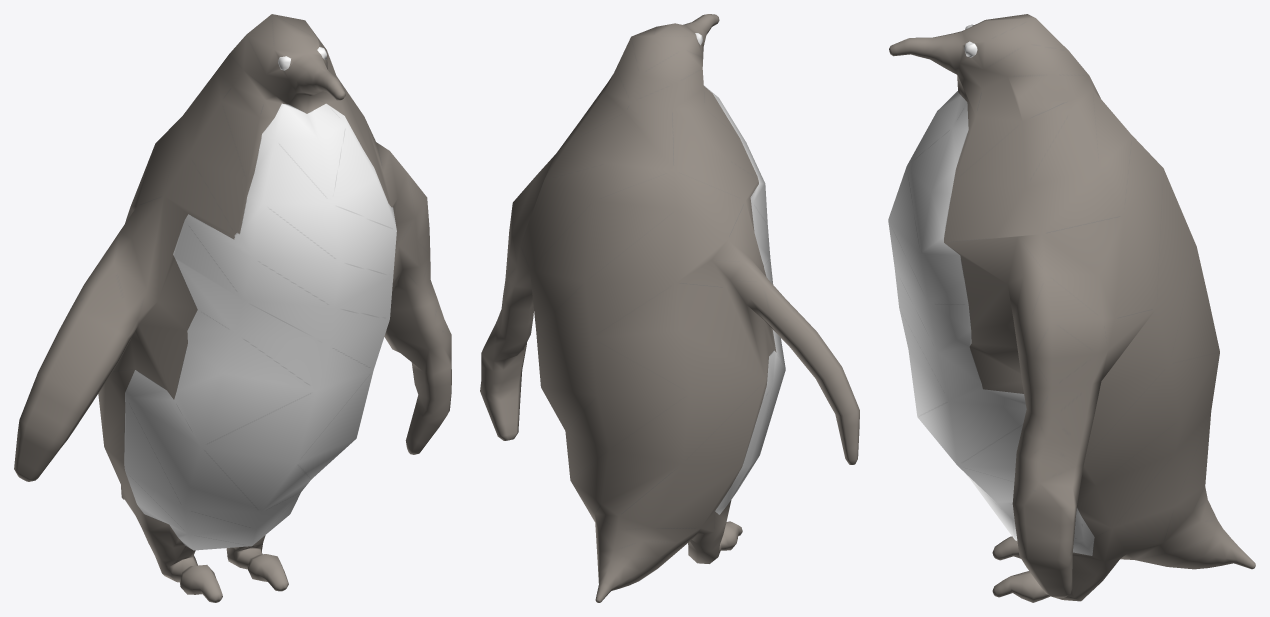
The model's file is penguin.fbx.
3 views of the same model, side by side, from view 1: azimuth 30°, elevation 25°; view 2: azimuth 150°, elevation 25°; view 3: azimuth 270°, elevation 25° (orthographic). The views are drawn at different scales.
Parts seen in each view (by area): view 1: unamed; view 2: unamed; view 3: unamed.
Boxes of the visible parts, bbox=[...] form: unamed: bbox=[14, 14, 451, 602]; unamed: bbox=[480, 14, 859, 602]; unamed: bbox=[888, 14, 1255, 602].
Bounding box in the file's own units: 0.7754 × 0.9854 × 0.5605.
1 material, 1 textured.
